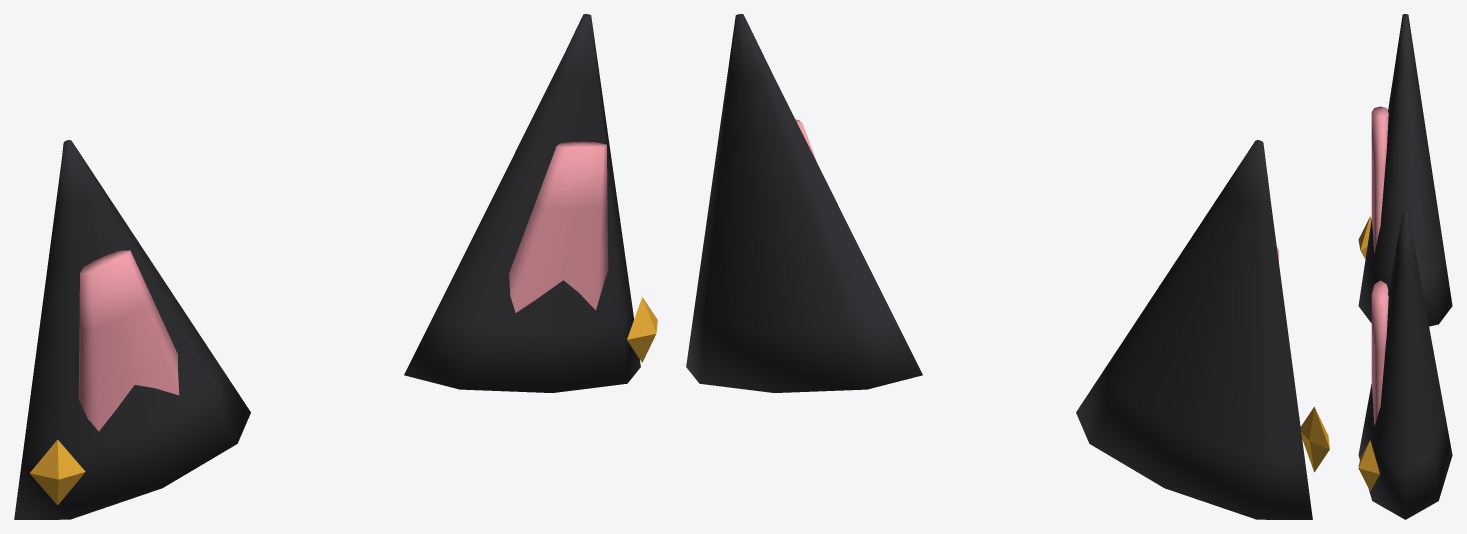
Rendered from head_cat.glb.
3 renders of one model, left to right at view 1: azimuth 30°, elevation 25°; view 2: azimuth 150°, elevation 25°; view 3: azimuth 270°, elevation 25°, orthographic. The views are drawn at different scales.
Visible parts, largest first — view 1: head_cat_q; view 2: head_cat_q; view 3: head_cat_q.
Boxes of the visible parts, x1,y1,x2,y2 form: head_cat_q: [14, 14, 657, 519]; head_cat_q: [686, 14, 1329, 519]; head_cat_q: [1358, 14, 1452, 519].
Bounding box in the file's own units: 1.93 × 1.08 × 0.3202.
